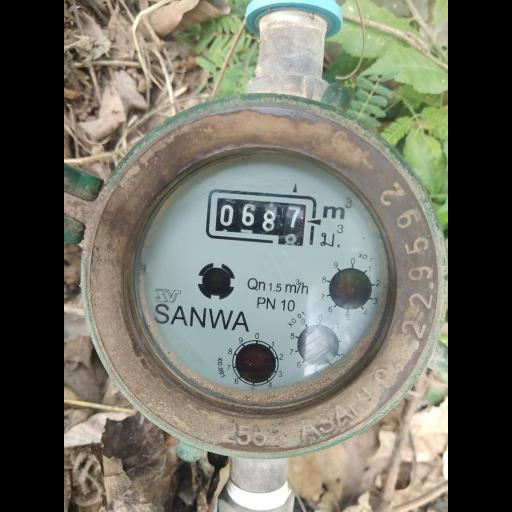0: (216, 198, 241, 233)
6: (236, 200, 262, 235)
7: (279, 203, 306, 246)
8: (258, 201, 283, 235)
border_water_meter_number: (205, 189, 317, 249)
